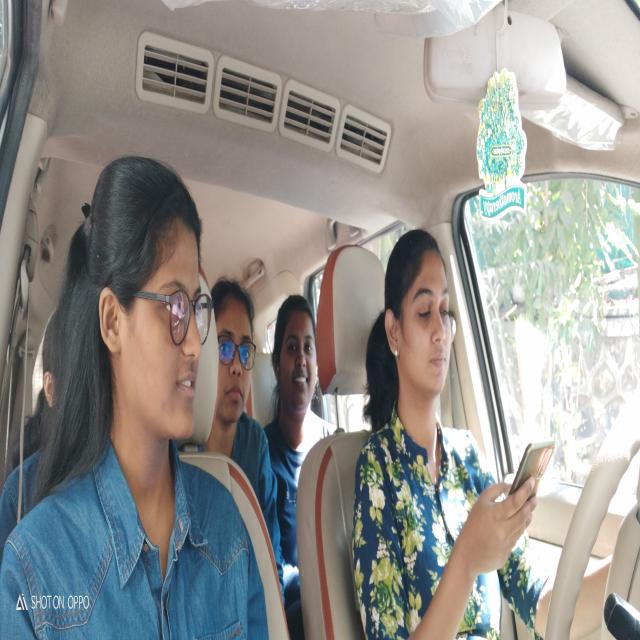drowsy: (382, 226, 460, 410)
mobile: (504, 438, 556, 516)
person: (84, 152, 209, 446), (213, 277, 258, 423), (269, 296, 321, 420), (42, 306, 61, 426)
